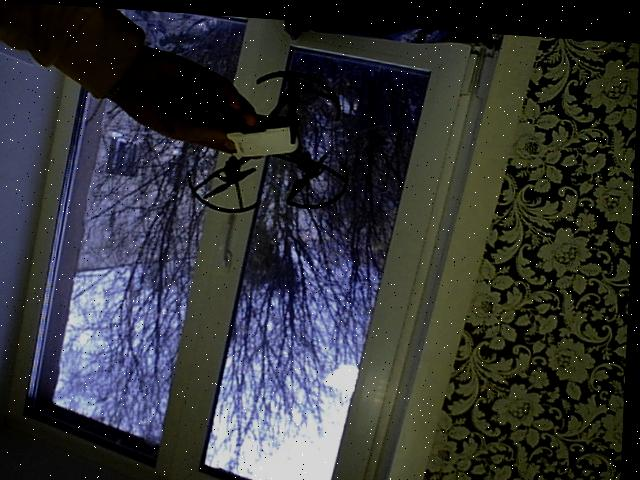drone: (157, 56, 359, 216)
